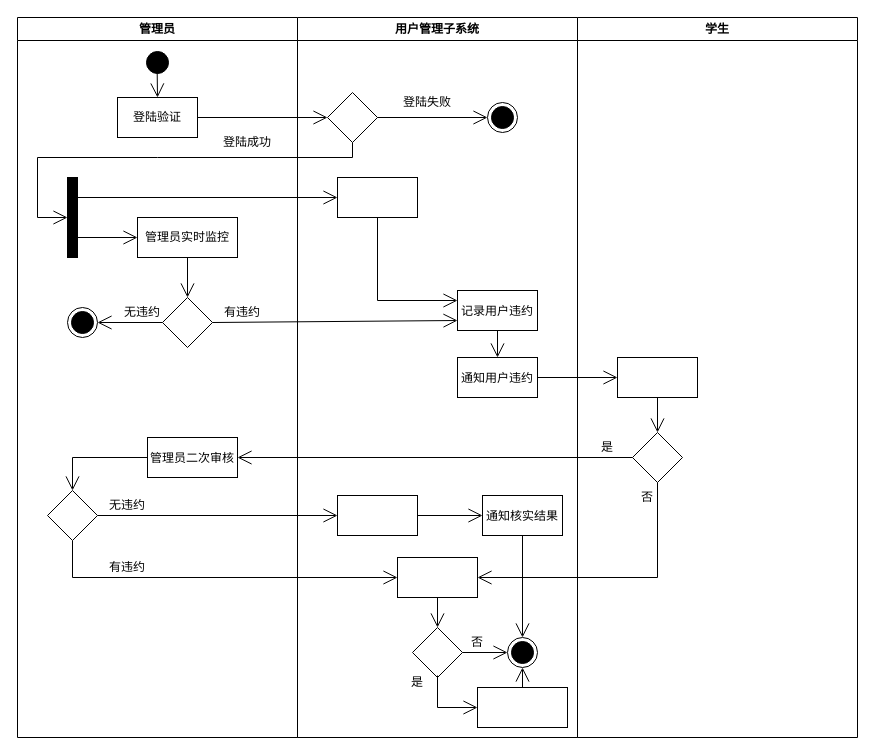
Some shapes in this 875 by 755 pixel diagram are drawn without their labels. Each missing label, with the centre of its shape:
"删除违约记录" goes at (377,515).
"判断是否将用 户拉入黑名单" goes at (437,577).
"发送黑名单通知" goes at (522,707).
"超时自动释放" goes at (377,197).
"违约申诉" goes at (657,377).
